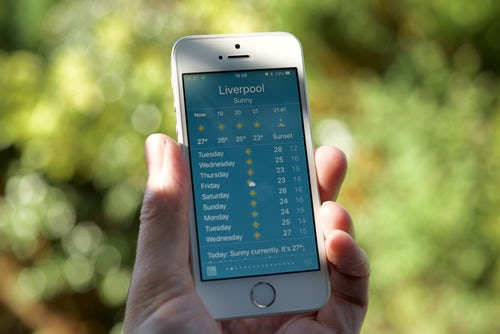phone: (170, 33, 334, 315)
